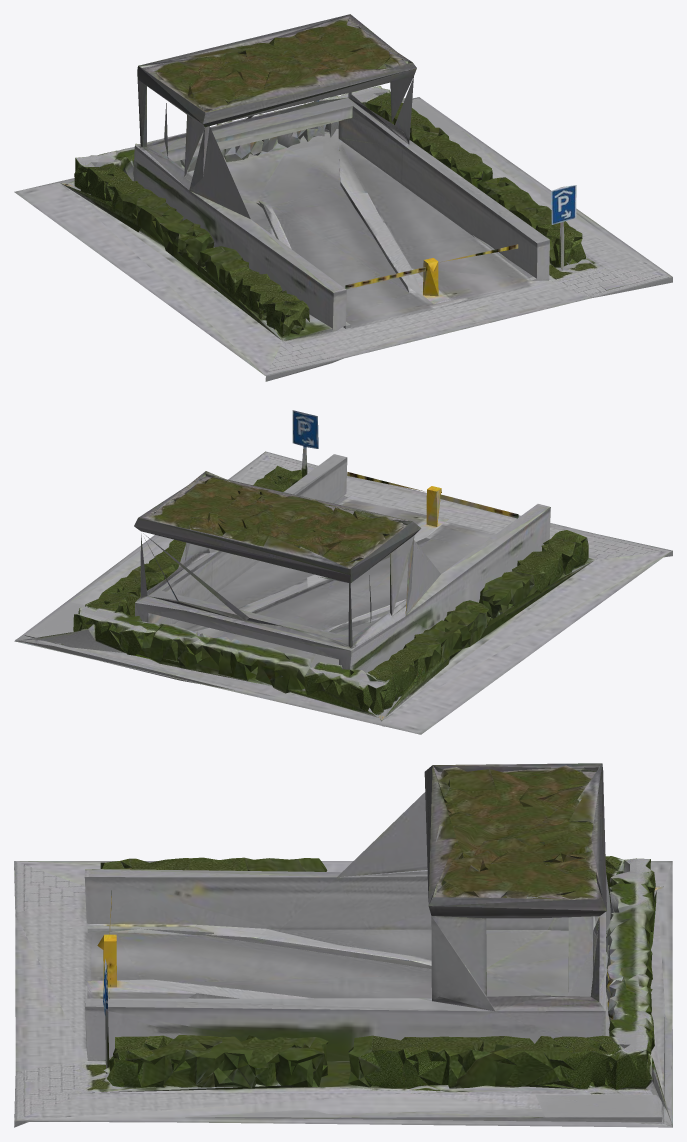
The model's file is tiefgarage.glb.
The picture shows the model from 3 angles, top to bottom: view 1: azimuth 30°, elevation 25°; view 2: azimuth 150°, elevation 25°; view 3: azimuth 270°, elevation 25°; orthographic projection. The views are drawn at different scales.
Size of the model in its own units: 1.77 by 0.5412 by 1.9.
Materials: 1 (1 with a texture image).
